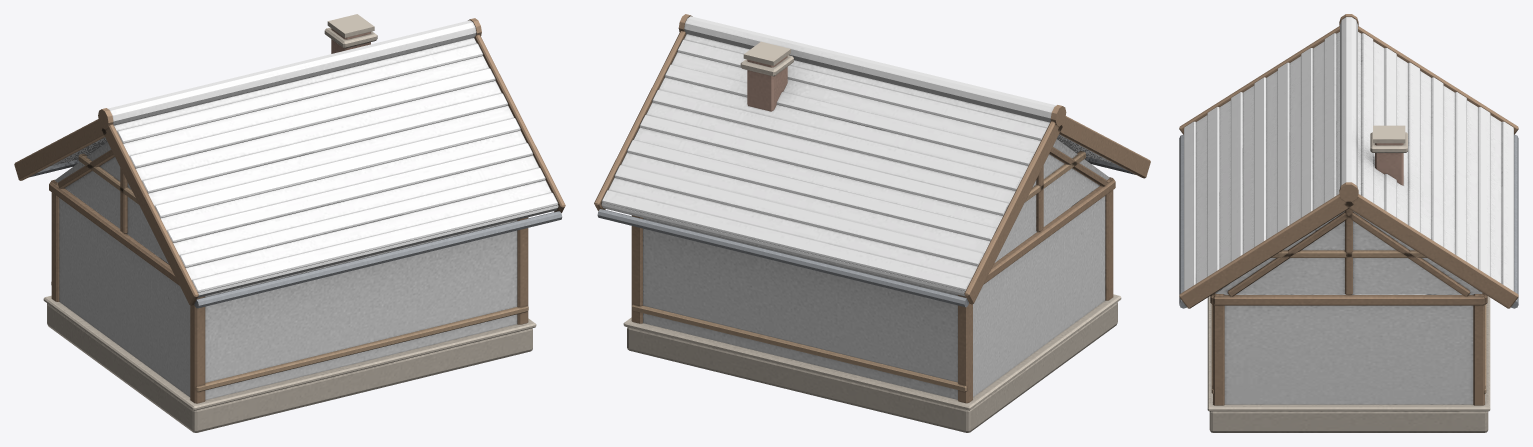
Rendered from haus.glb.
3 renders of one model, left to right at view 1: azimuth 30°, elevation 25°; view 2: azimuth 150°, elevation 25°; view 3: azimuth 270°, elevation 25°, orthographic. The views are drawn at different scales.
Parts seen in each view (by area): view 1: Dach, Wand; view 2: Dach, Wand; view 3: Dach, Wand.
Boxes of the visible parts, left/top/right/bottom form: Dach: left=14, top=18, right=565, bottom=308; Wand: left=43, top=14, right=536, bottom=432; Dach: left=594, top=14, right=1150, bottom=307; Wand: left=623, top=41, right=1121, bottom=432; Dach: left=1179, top=14, right=1518, bottom=308; Wand: left=1207, top=125, right=1490, bottom=432.
Bounding box in the file's own units: 4.52 × 3.23 × 3.8.
1 material, 1 textured.
